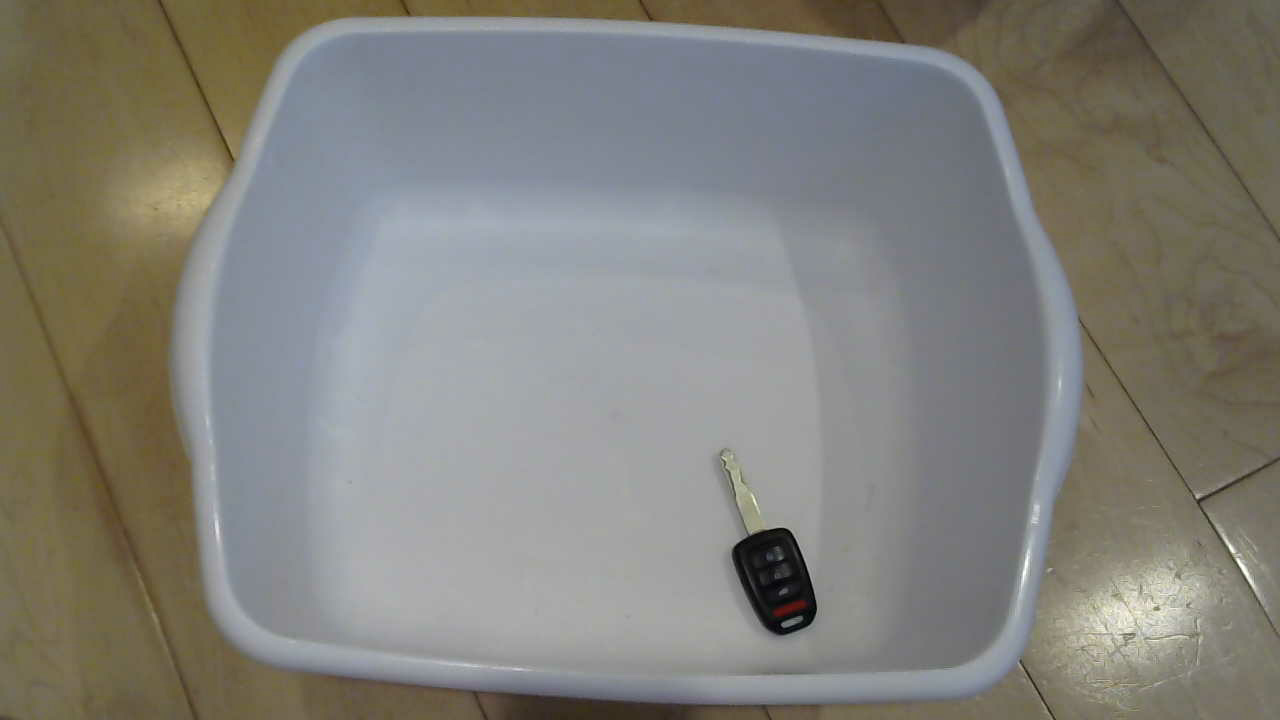key: (692, 448, 846, 640)
